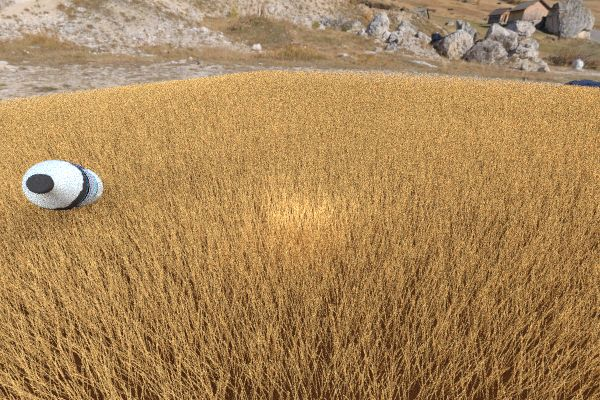bottle: (24, 157, 103, 207)
can: (377, 158, 479, 203), (237, 119, 270, 156)
